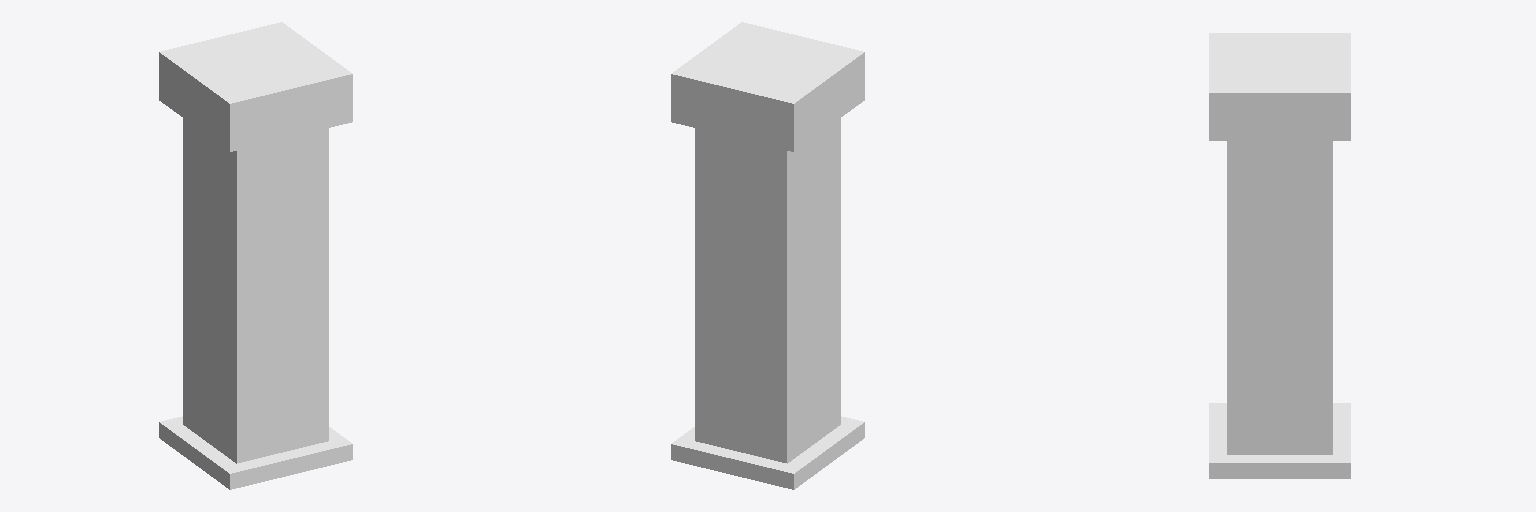
Rendered from Column_A.obj.
The picture shows the model from 3 angles: view 1: azimuth 30°, elevation 25°; view 2: azimuth 150°, elevation 25°; view 3: azimuth 270°, elevation 25°; orthographic projection.
Visible parts, largest first — view 1: object 1; view 2: object 1; view 3: object 1.
Part boxes in pixels (bbox=[...]): object 1: bbox=[159, 22, 352, 489]; object 1: bbox=[671, 22, 864, 489]; object 1: bbox=[1209, 33, 1350, 478].
Size of the model in its own units: 1.6 by 4.8 by 1.6.